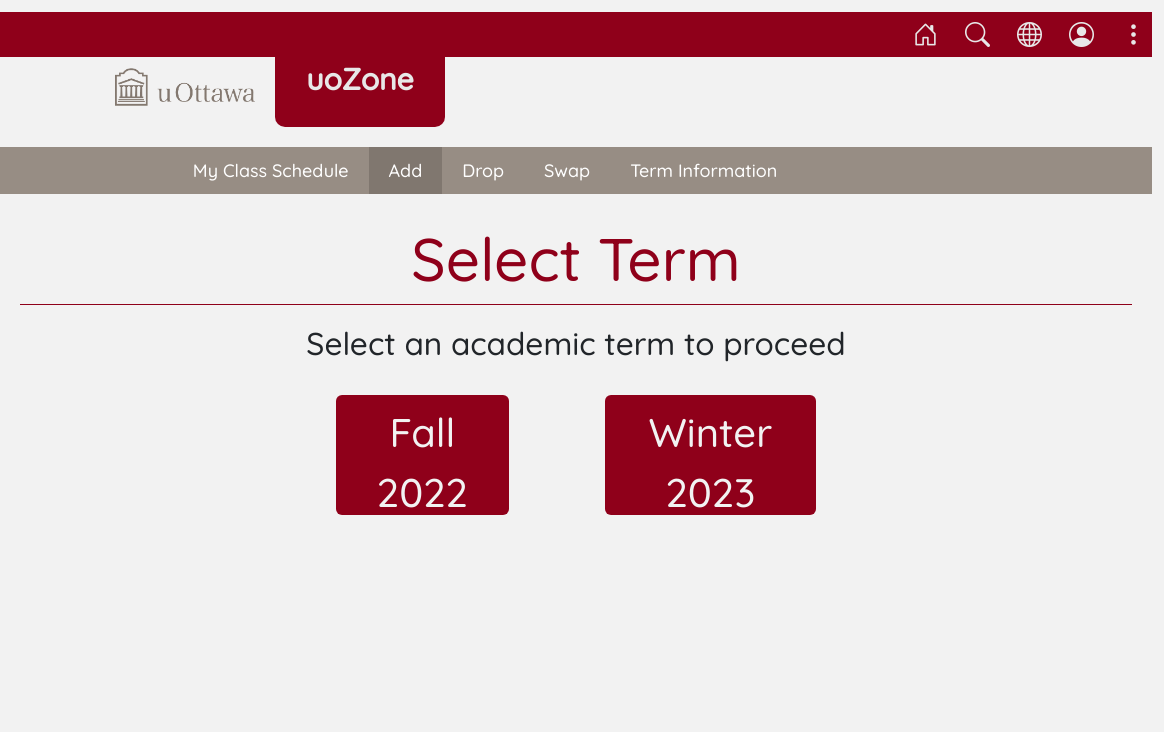
Scenario: Testing Home Page › Check the internationalization to French
Click the button with id "languageIcon": [1030, 35] box [1011,12,1048,57]
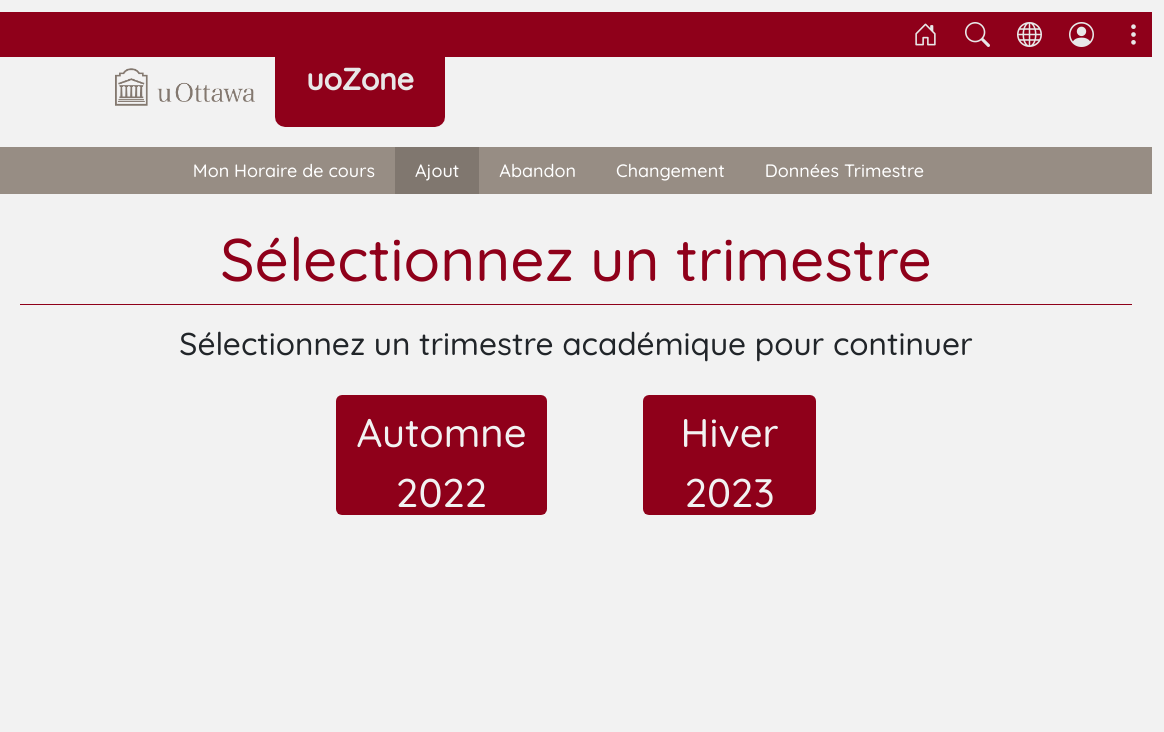
Expected: the text "Sélectionnez un trimestre" is shown, [220,221,932,296]
